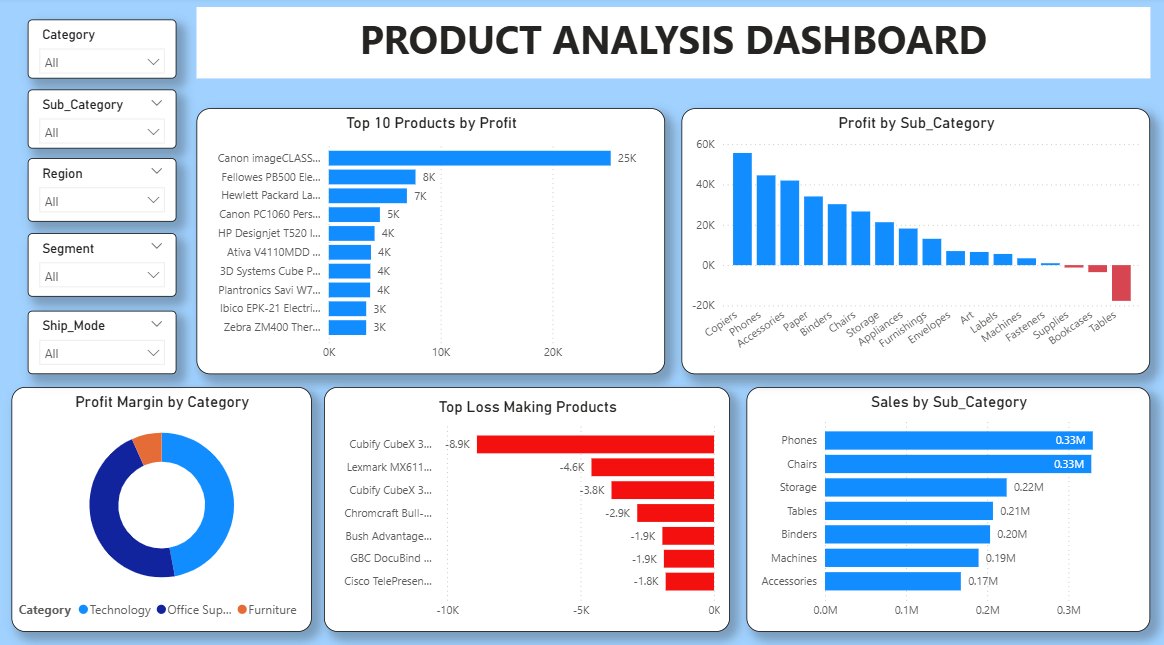

The page's visual inventory and layout, read from the dashboard file:
{"tool":"powerbi","page":{"name":"Product Analysis","canvas":[1280,720],"ordinal":1},"visuals":[{"type":"clusteredBarChart","title":"Top 10 Products by Profit","fields":{"Category":["Superstore_Cleaned.Product_Name"],"Y":["Superstore_Cleaned.Total Profit"]},"box":[212.3,53.1,515.2,293.2],"z":0},{"type":"barChart","title":" Sales by Sub_Category","fields":{"Category":["Superstore_Cleaned.Sub_Category"],"Y":["Superstore_Cleaned.Total Sales"]},"box":[748,359.5,515.2,258.2],"z":1000},{"type":"columnChart","title":"Profit by Sub_Category","fields":{"Category":["Superstore_Cleaned.Sub_Category"],"Y":["Superstore_Cleaned.Total Profit"]},"box":[748,51.9,515.2,293.2],"z":2000},{"type":"donutChart","title":"Profit Margin by Category","fields":{"Category":["Superstore_Cleaned.Category"],"Y":["Superstore_Cleaned.Profit Margin %"]},"box":[0,455.6,286.8,161.9],"z":3000},{"type":"textbox","box":[11,628.5,953.7,91.9],"z":4000},{"type":"slicer","fields":{"Values":["Superstore_Cleaned.Category"]},"box":[10.9,51.9,164.1,68.8],"z":5000},{"type":"slicer","fields":{"Values":["Superstore_Cleaned.Sub_Category"]},"box":[10.9,129.1,164.1,70],"z":6000},{"type":"slicer","fields":{"Values":["Superstore_Cleaned.Region"]},"box":[10.9,212.3,164.1,70],"z":7000},{"type":"slicer","fields":{"Values":["Superstore_Cleaned.Segment"]},"box":[10.9,289.5,164.1,70],"z":8000},{"type":"slicer","fields":{"Values":["Superstore_Cleaned.Ship_Mode"]},"box":[10.9,369.2,164.1,70],"z":9000},{"type":"textbox","box":[0,0,1280,41],"z":10000},{"type":"barChart","title":"Top Loss Making Products","fields":{"Category":["Superstore_Cleaned.Product_Name"],"Y":["Superstore_Cleaned.Total Profit"]},"box":[298,359.5,429.5,258.2],"z":11000},{"type":"textbox","box":[992.1,628.5,270.3,83.7],"z":12000}]}

Visuals, with their boxes in screenshot pixels (x1, y1, x2, y2), scaled from the page's 1280x720 canvas onto the 1164x645 screenshot:
"Top 10 Products by Profit" clusteredBarChart: box(193, 48, 662, 310)
" Sales by Sub_Category" barChart: box(680, 322, 1149, 553)
"Profit by Sub_Category" columnChart: box(680, 46, 1149, 309)
"Profit Margin by Category" donutChart: box(0, 408, 261, 553)
textbox: box(10, 563, 877, 644)
slicer - Superstore_Cleaned.Category: box(10, 46, 159, 108)
slicer - Superstore_Cleaned.Sub_Category: box(10, 116, 159, 178)
slicer - Superstore_Cleaned.Region: box(10, 190, 159, 253)
slicer - Superstore_Cleaned.Segment: box(10, 259, 159, 322)
slicer - Superstore_Cleaned.Ship_Mode: box(10, 331, 159, 393)
textbox: box(0, 0, 1163, 37)
"Top Loss Making Products" barChart: box(271, 322, 662, 553)
textbox: box(902, 563, 1148, 638)
